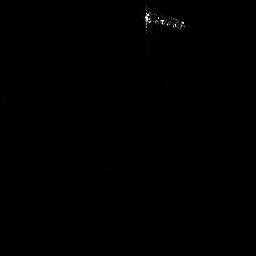ship: (144, 9, 184, 29)
